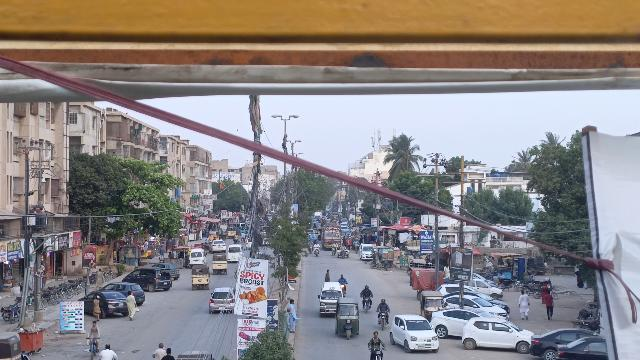Bike: (85, 335, 100, 359), (360, 294, 374, 316), (369, 345, 386, 360), (378, 308, 388, 331), (338, 282, 348, 296)
Car: (462, 316, 534, 353), (389, 314, 440, 356), (529, 327, 593, 360), (429, 308, 481, 338), (77, 289, 129, 318), (123, 266, 174, 294), (555, 337, 609, 360), (208, 286, 236, 314)
Cart: (336, 242, 350, 259)
Person: (287, 297, 299, 336), (517, 289, 532, 320), (544, 289, 556, 321), (126, 290, 137, 320), (86, 319, 101, 338), (375, 298, 392, 313), (92, 293, 101, 319), (359, 284, 375, 297), (336, 273, 348, 285), (324, 266, 331, 281)
Rickshaw: (333, 297, 362, 340), (419, 288, 442, 321), (189, 264, 212, 290), (210, 251, 228, 276)
Van: (316, 281, 343, 318), (189, 247, 207, 268), (227, 244, 243, 264)
